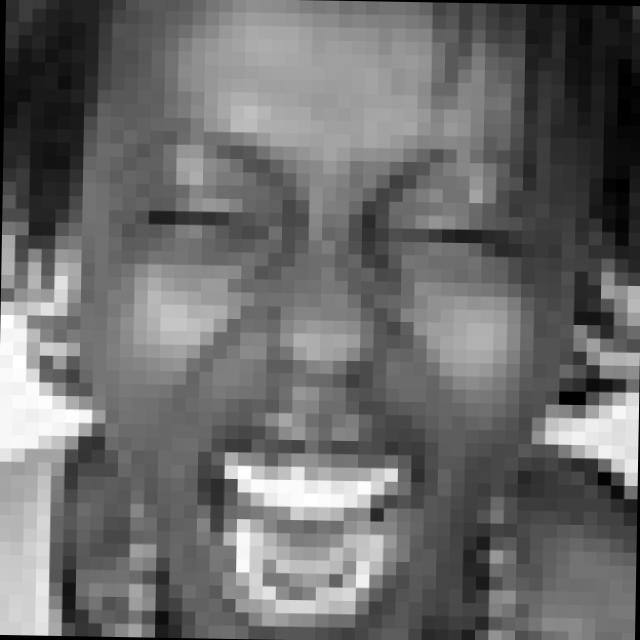angry: (95, 123, 546, 640)
